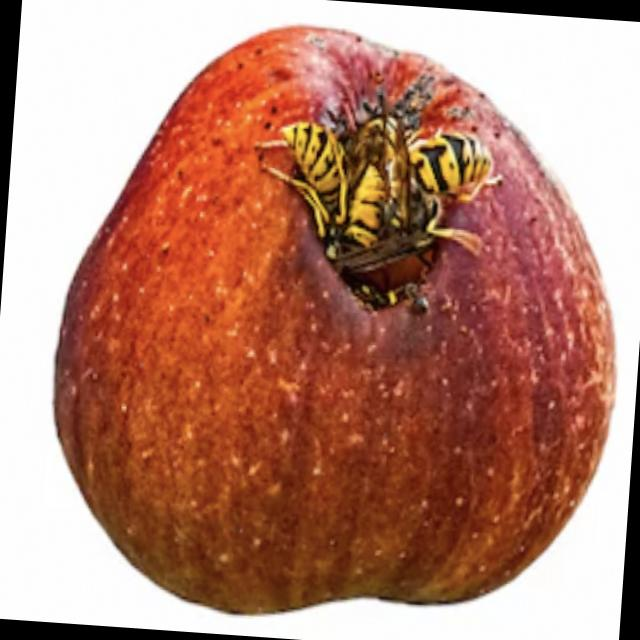rotten_apple: (36, 7, 640, 640)
